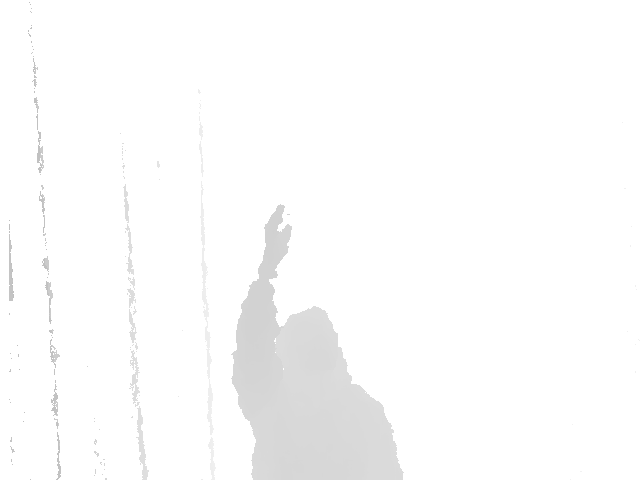hand: (256, 203, 295, 267)
head: (277, 305, 350, 396)
person: (231, 202, 407, 480)
